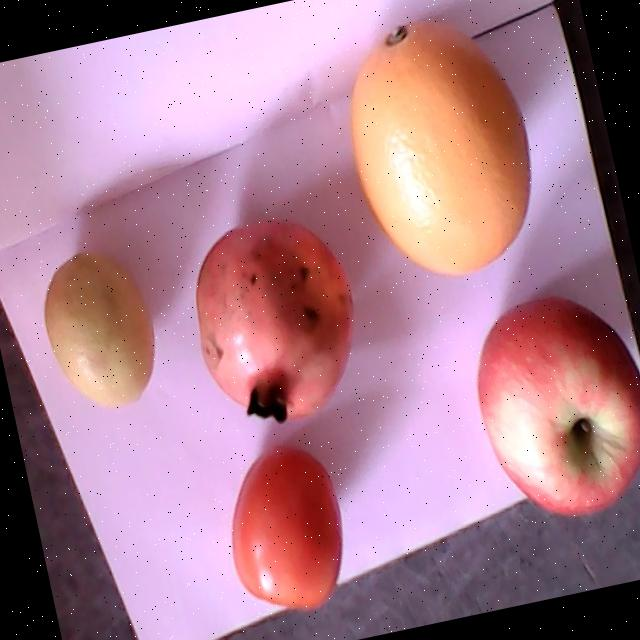apple: (477, 297, 640, 514)
lemon: (45, 250, 153, 406)
orange: (349, 19, 528, 275)
pomegranate: (194, 221, 354, 423)
tomato: (230, 445, 341, 610)
